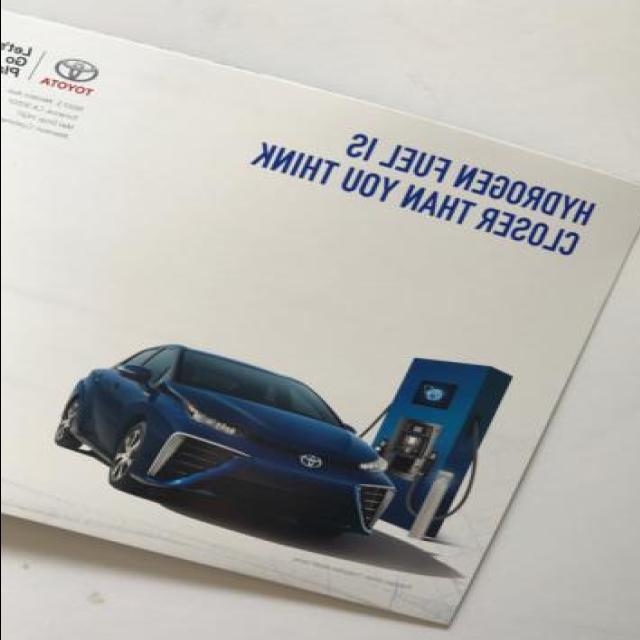kertas: (0, 3, 640, 632)
